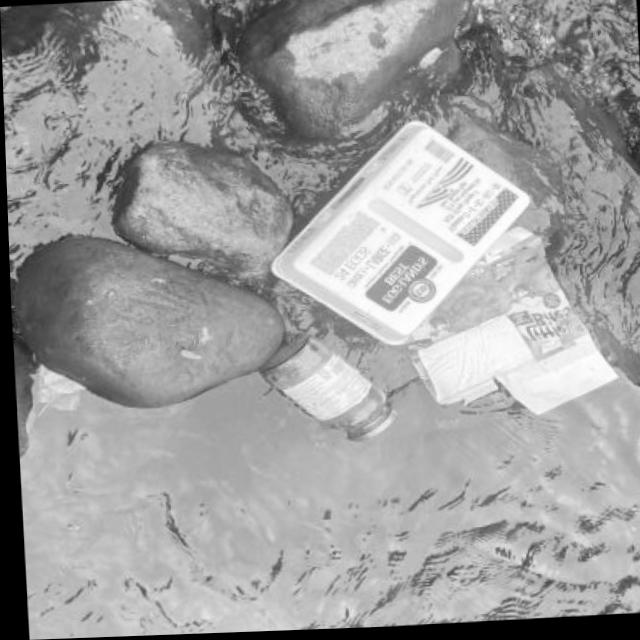Bottle-Glass: (245, 322, 402, 454)
Cardboard: (271, 114, 621, 436)
